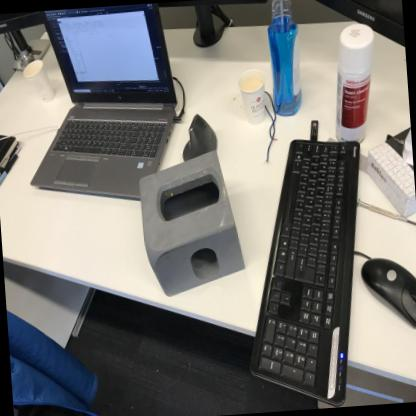CornerCasting: (134, 146, 250, 304)
